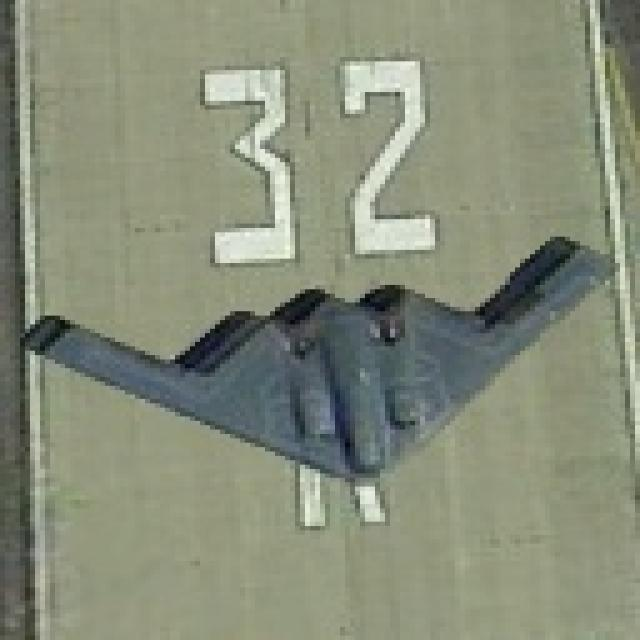B-2_TopDown: (15, 228, 615, 530)
